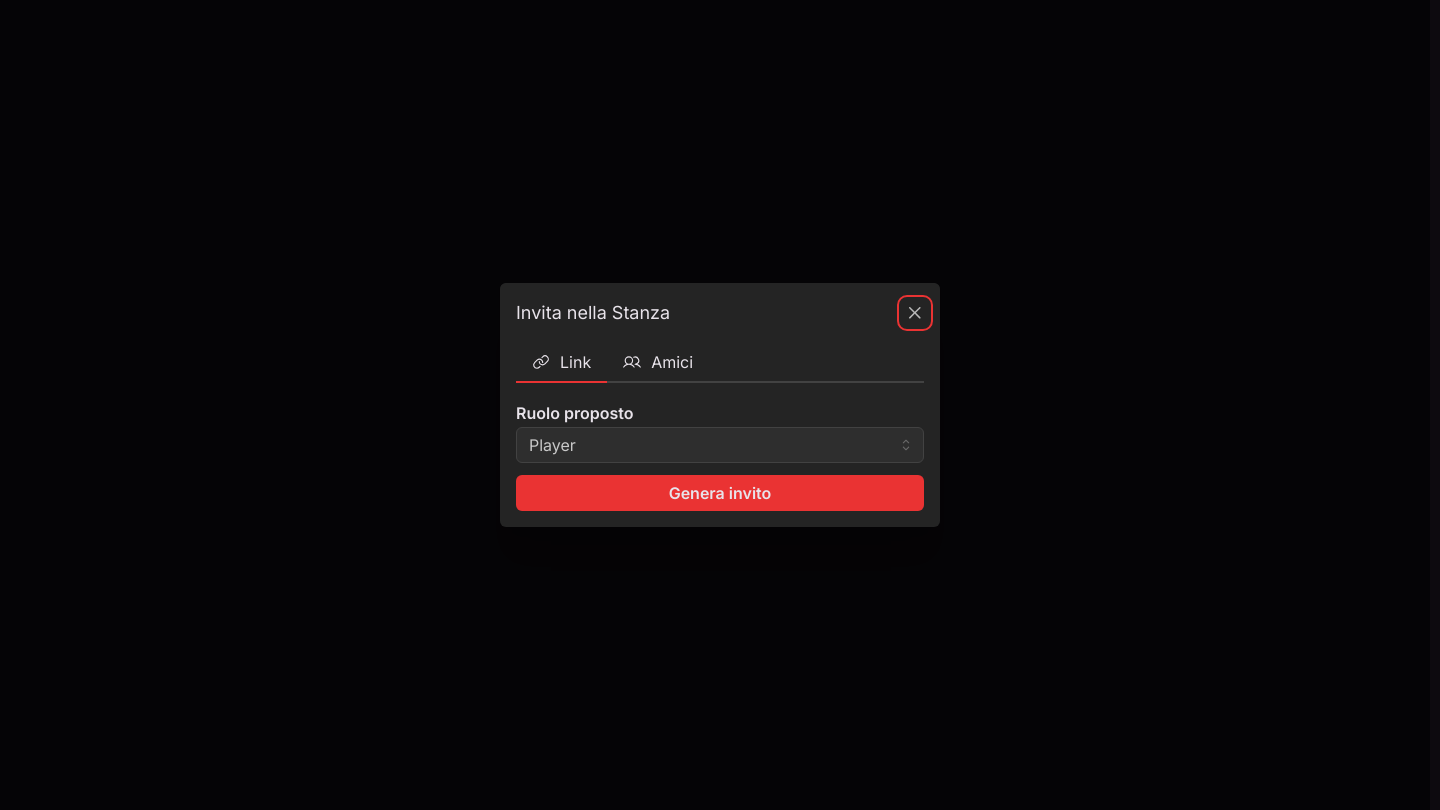
Test case: InviteModal Friends tab › offers only Friends who are not in the Room yet
The width and height of the screenshot is (1440, 810).
Step 1. Click the tab "Amici" → {"x": 658, "y": 363}, box [607,343,709,383]
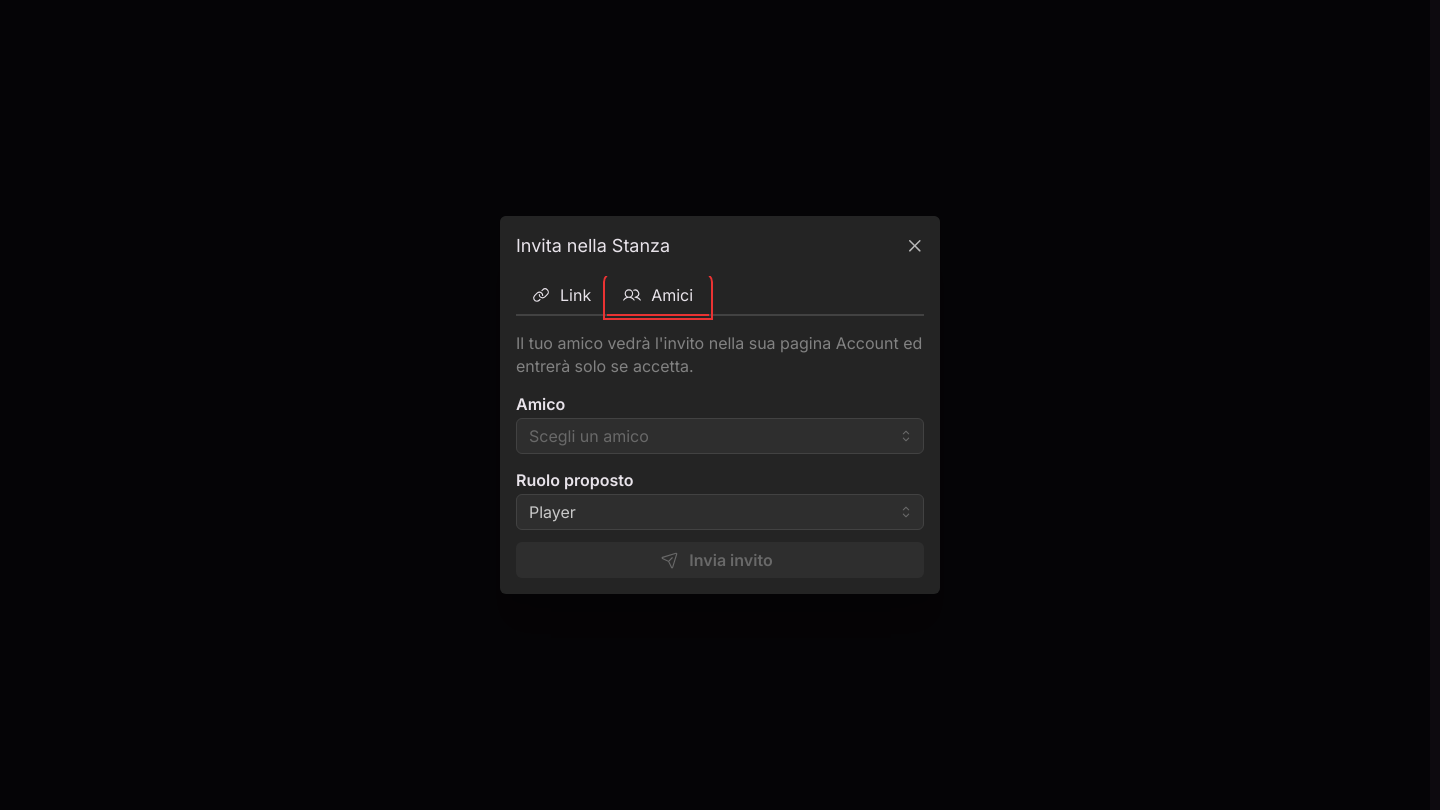
Result: the dropdown labelled "Amico" is enabled
Step 2. Click the dropdown labelled "Amico" → {"x": 720, "y": 436}, box [516,418,924,454]
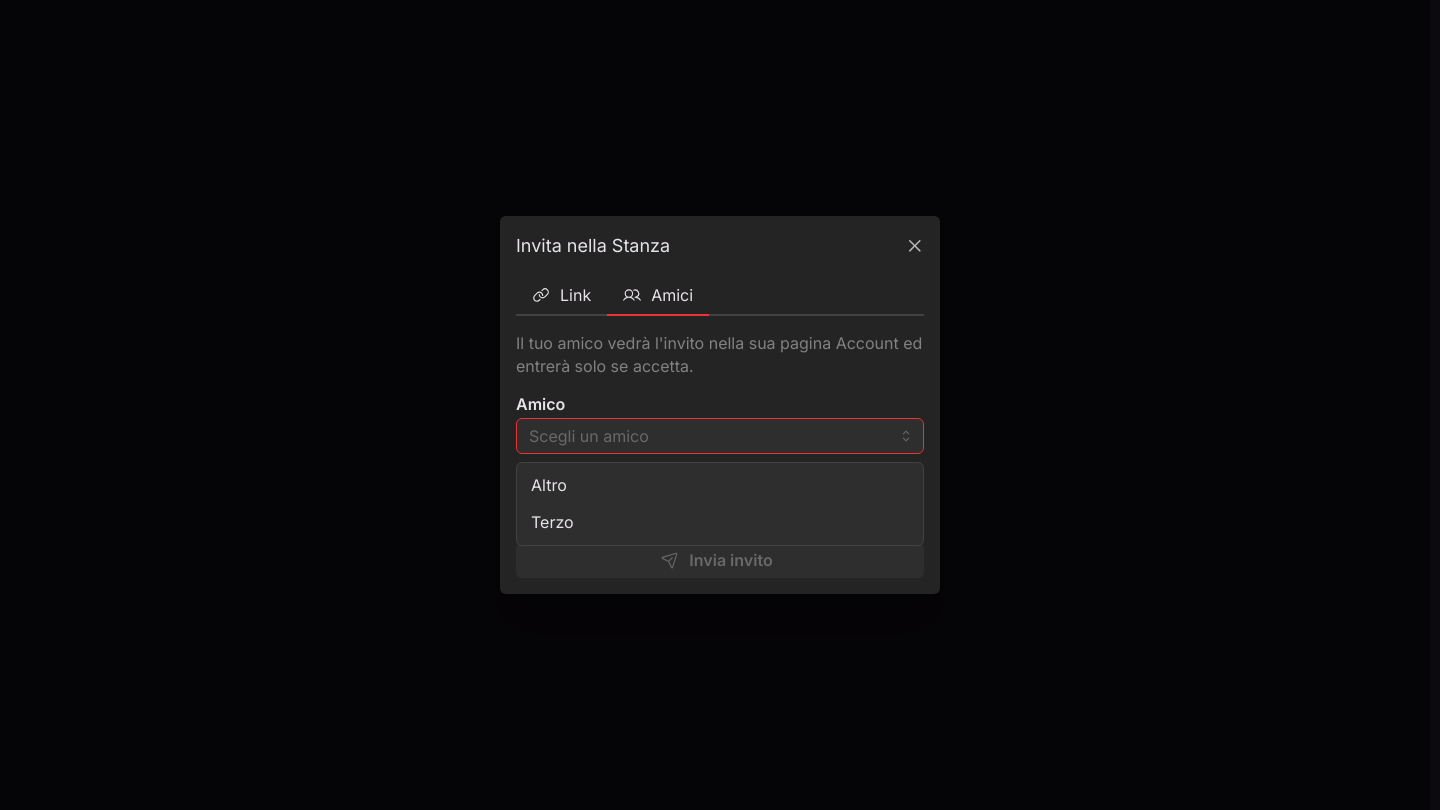
Result: the option "Altro" is shown at [531,475,567,495]
Result: the option "Terzo" is shown at [531,512,574,532]
